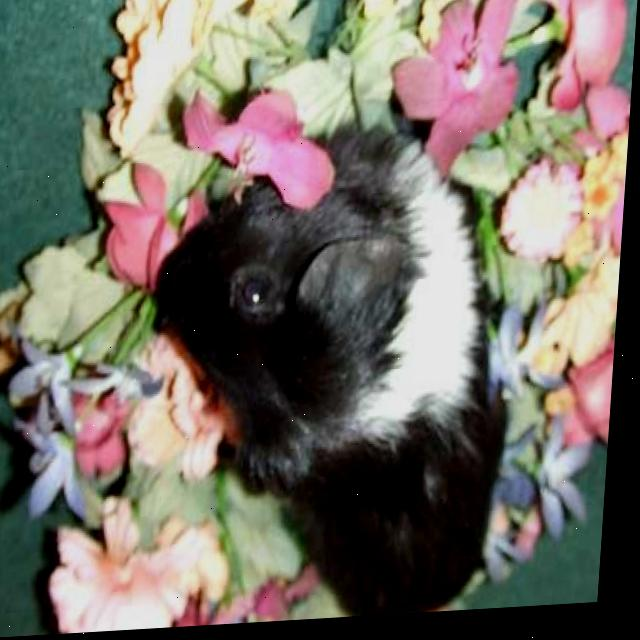guinea pig: (140, 140, 528, 632)
